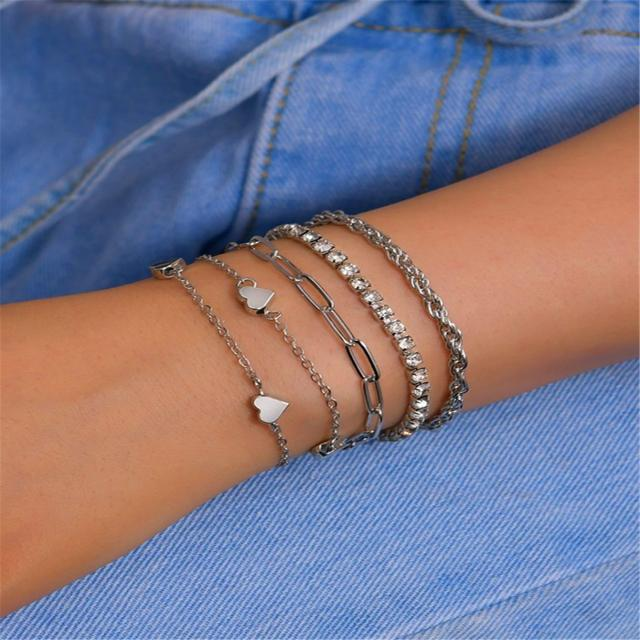bracelet: (99, 176, 605, 535)
